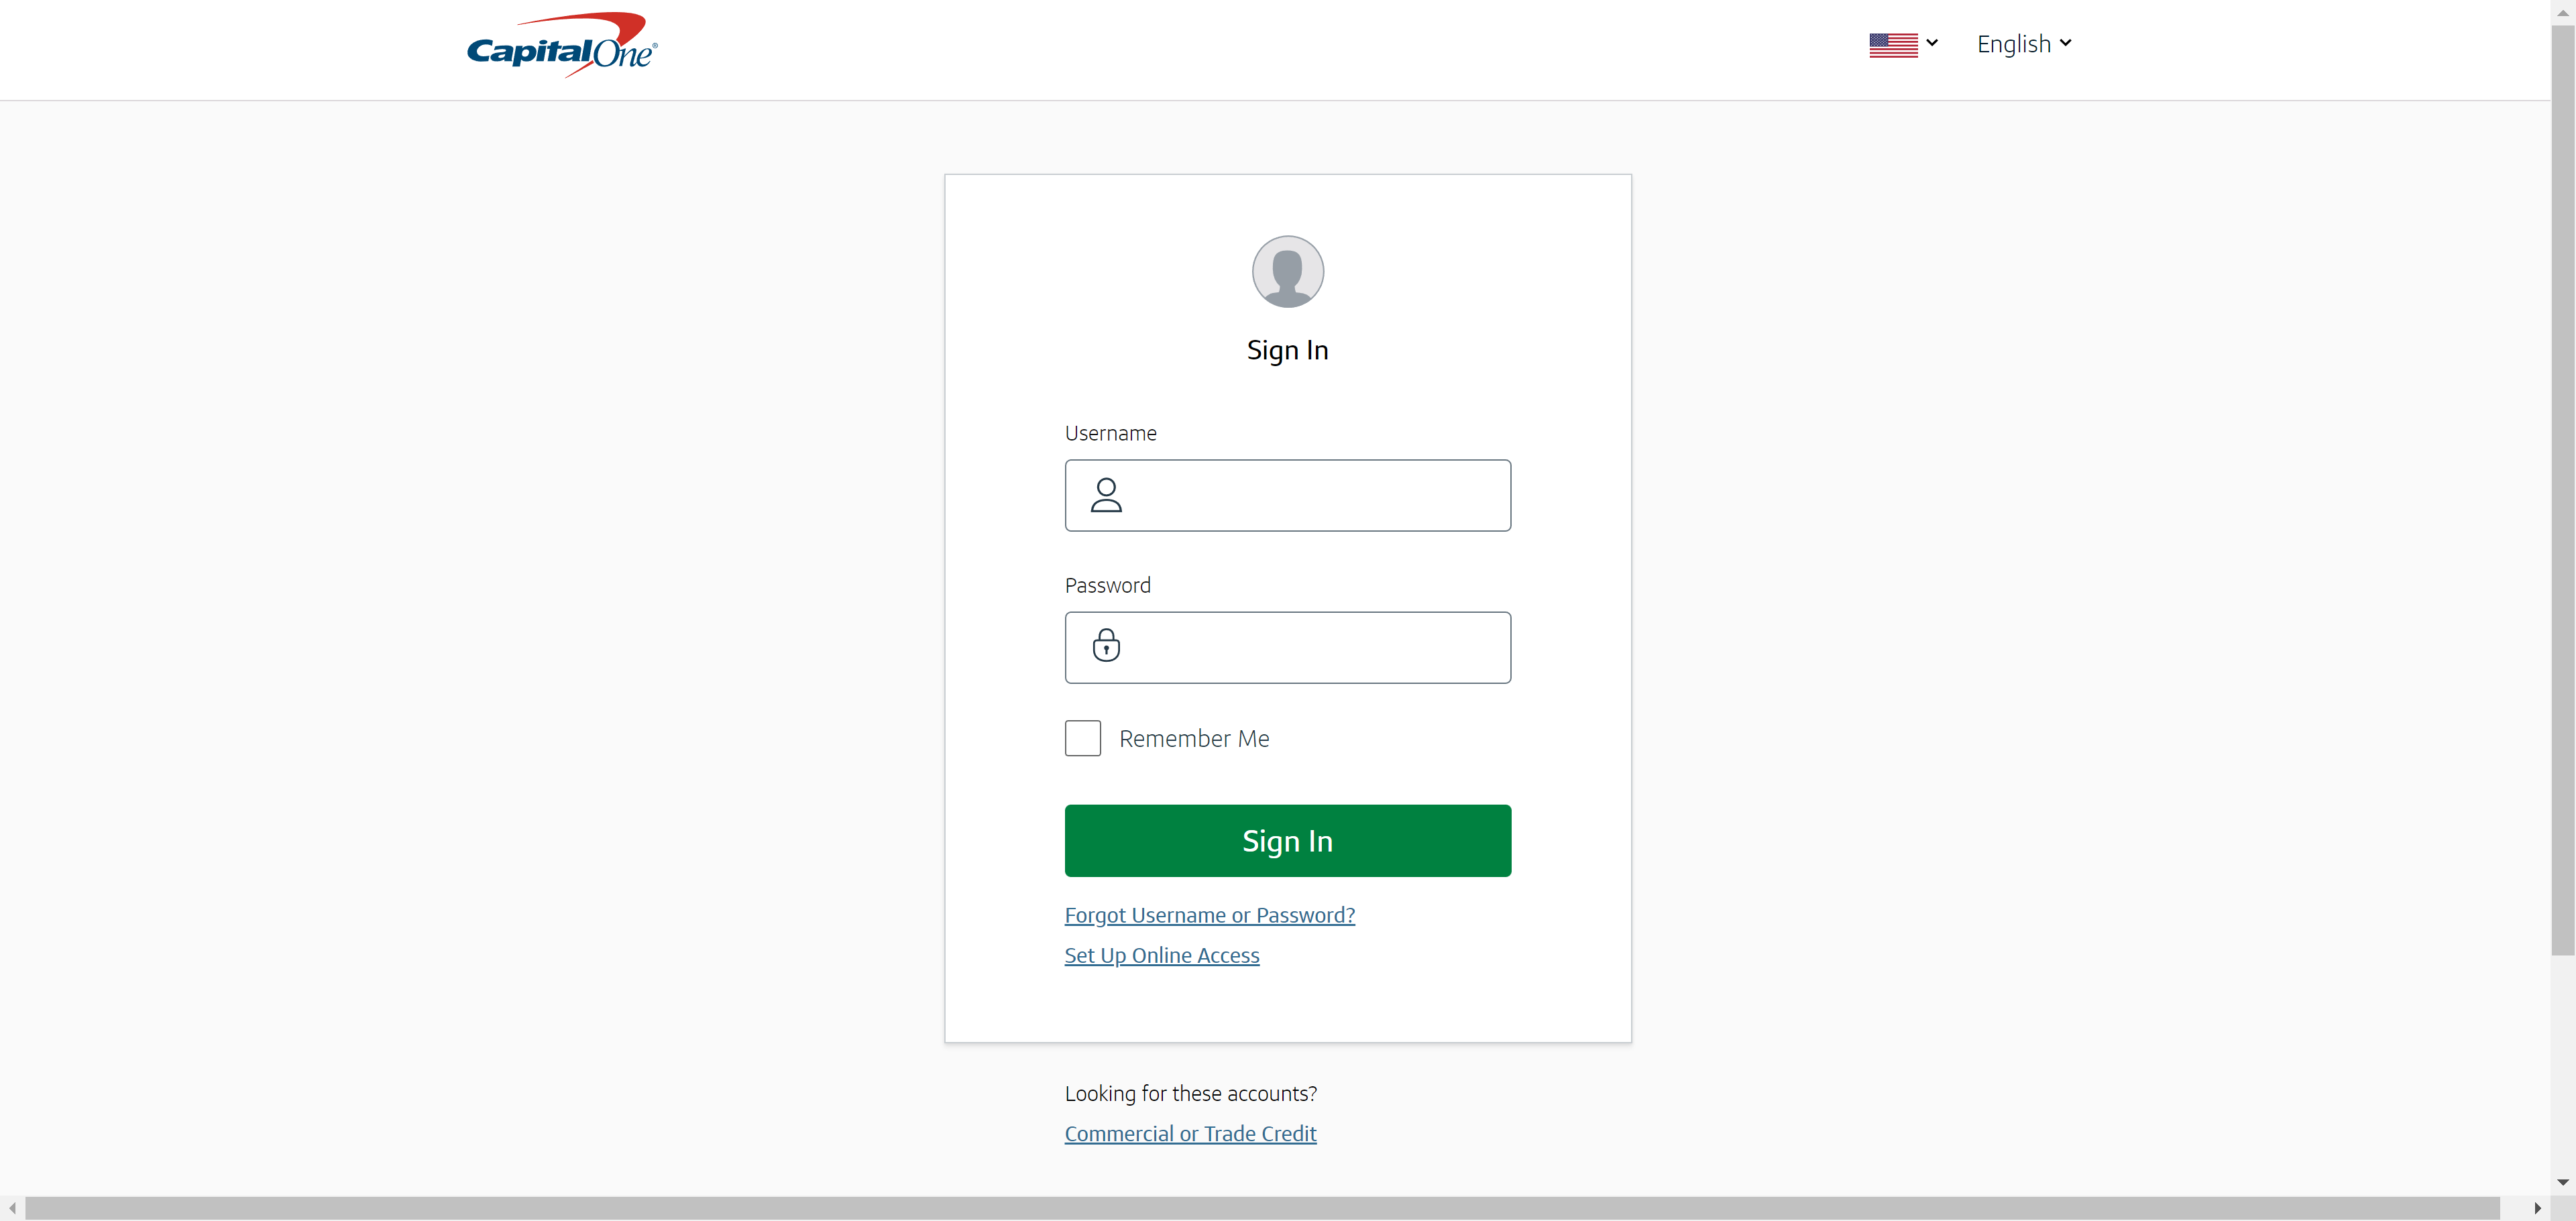login_button: (1065, 805, 1513, 878)
login_form: (1058, 414, 1520, 889)
